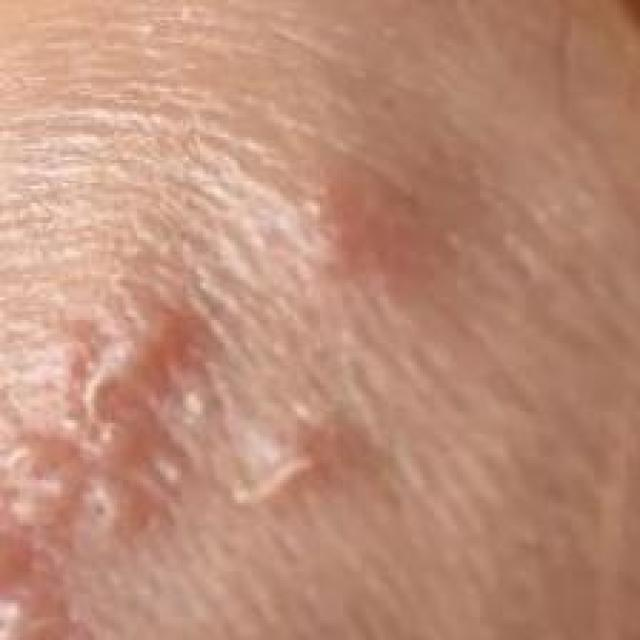monkeypox: (0, 37, 491, 640)
